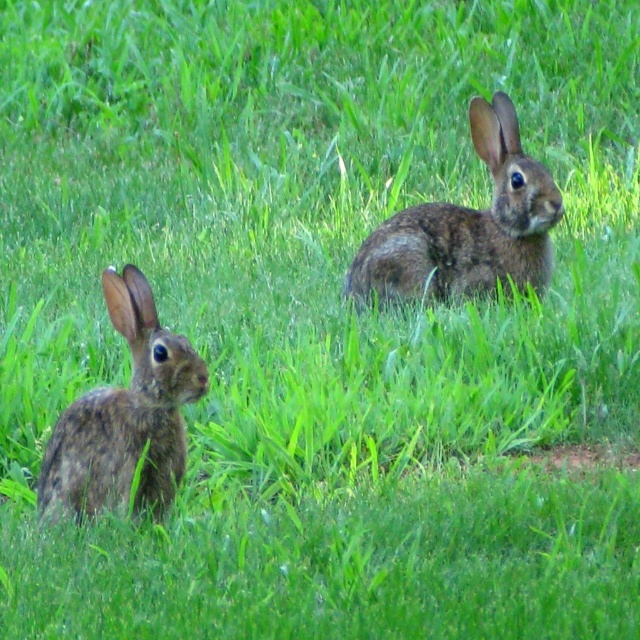Rabbit: (344, 89, 566, 332), (36, 263, 210, 543)
